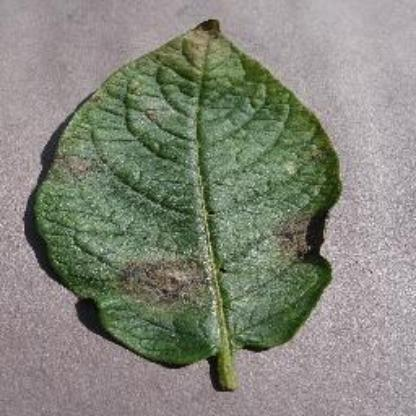Late-Blight: (31, 13, 346, 392)
